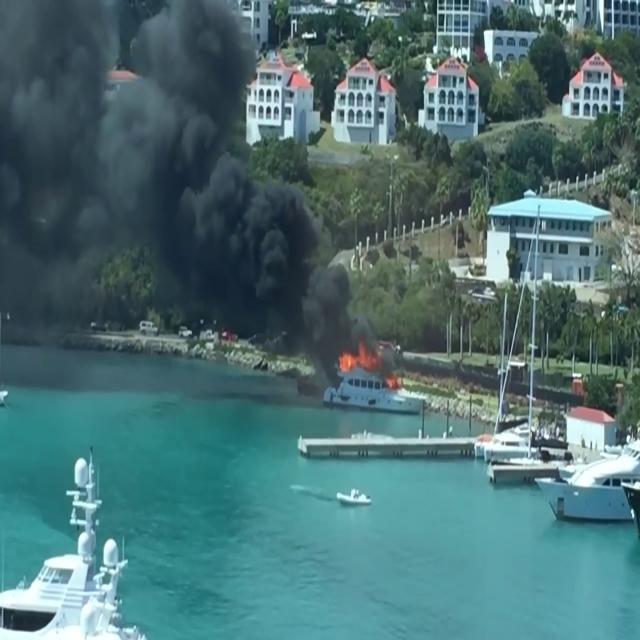Fire: (337, 339, 382, 378)
Smoke: (0, 0, 354, 355)
